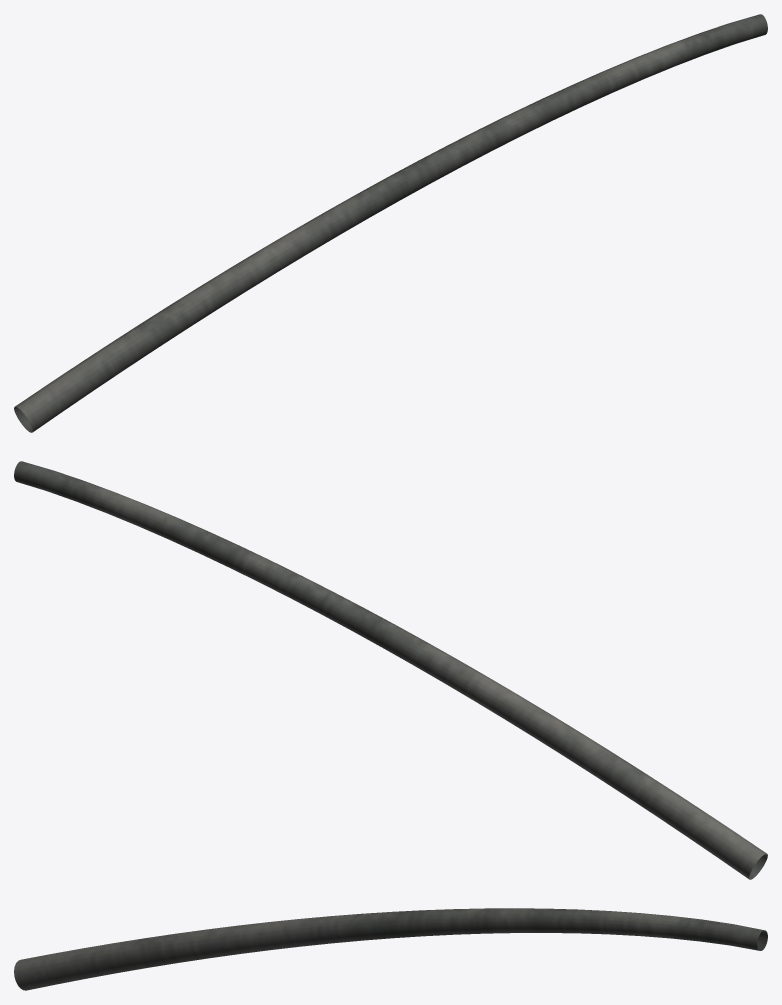
Rendered from armRise0-v1.glb.
3 renders of one model, top to bottom at view 1: azimuth 30°, elevation 25°; view 2: azimuth 150°, elevation 25°; view 3: azimuth 330°, elevation 25°, orthographic.
Parts seen in each view (by area): view 1: armRise0-v1; view 2: armRise0-v1; view 3: armRise0-v1.
Part boxes in pixels (x1,y1,x2,y2): armRise0-v1: (14, 14, 767, 432); armRise0-v1: (14, 461, 767, 879); armRise0-v1: (14, 908, 767, 990).
Bounding box in the file's own units: 4.6 × 1.4 × 0.1683.
Materials: 1 (1 with a texture image).
